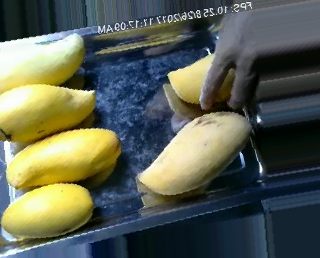Mango: (137, 112, 250, 195), (6, 128, 120, 189), (0, 83, 97, 143), (0, 33, 84, 94), (0, 183, 93, 238), (168, 53, 238, 105)
